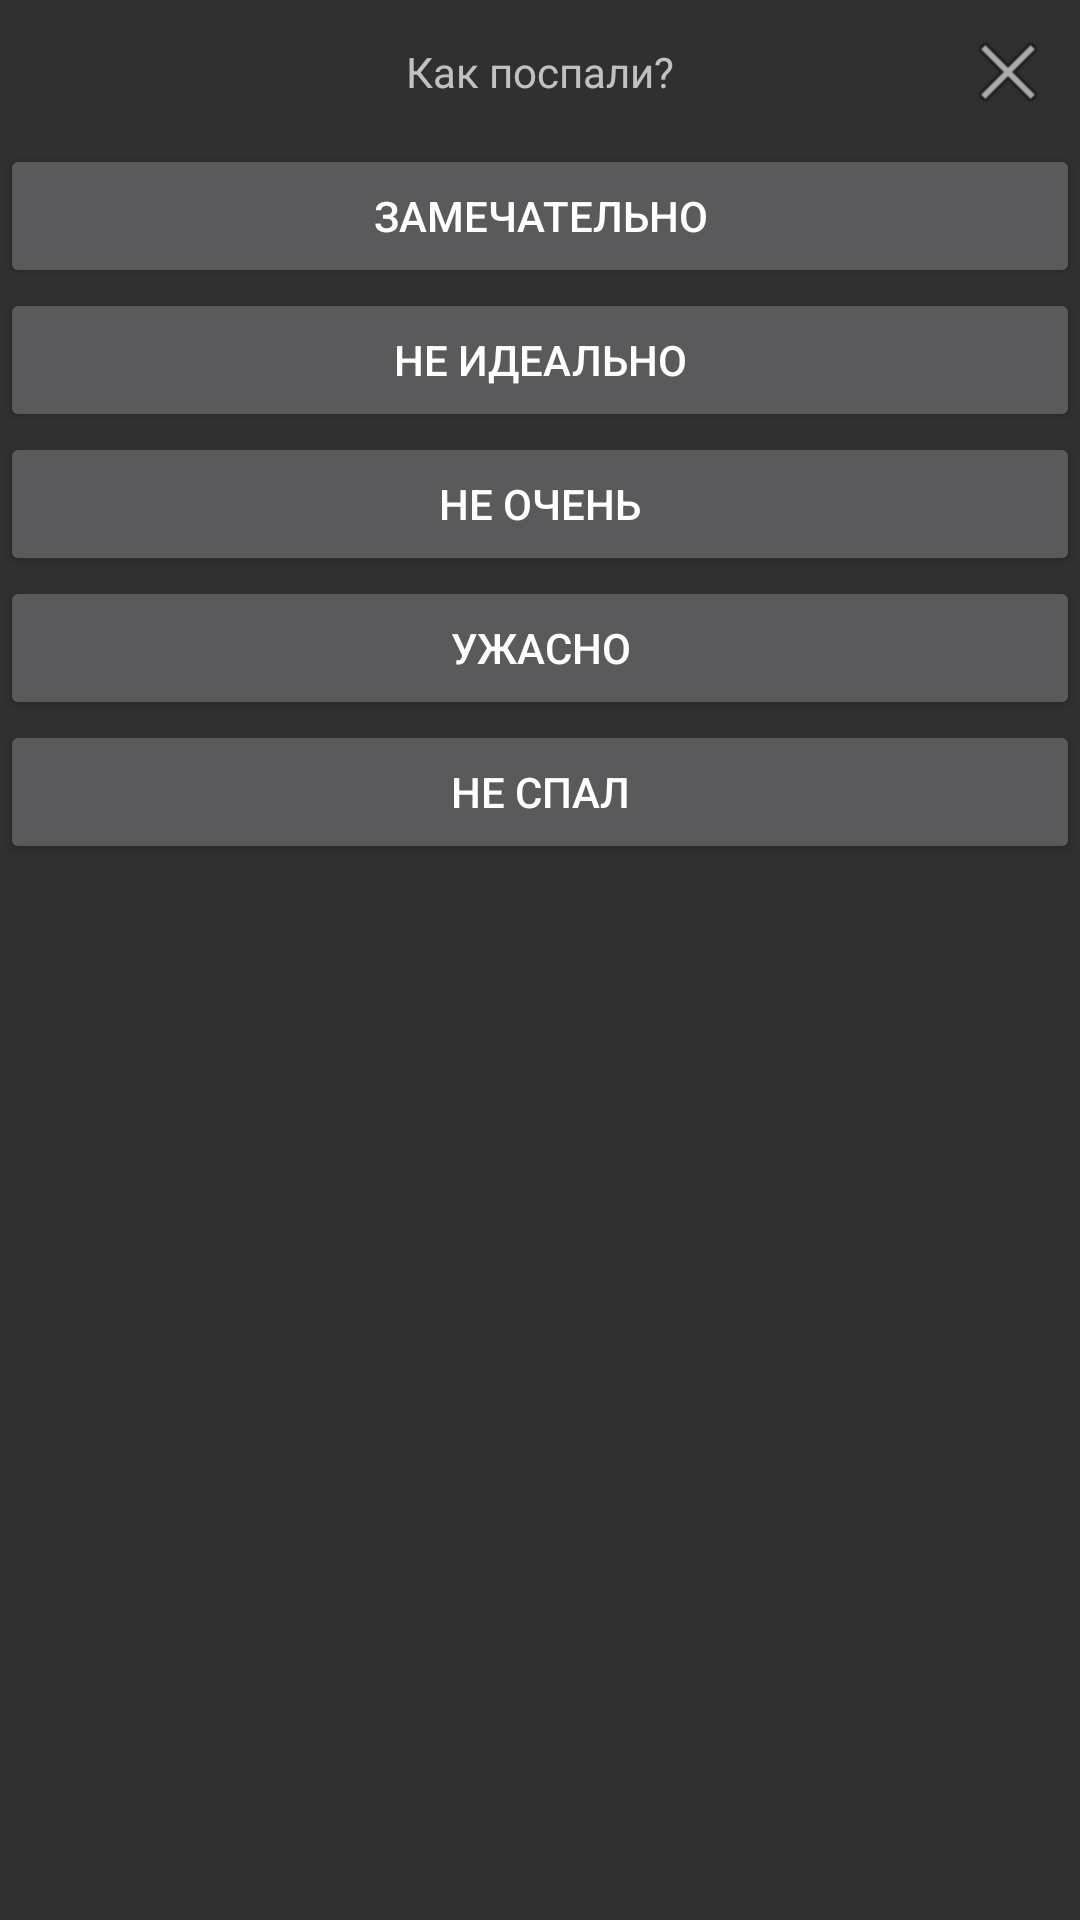

Named icons in this screenshot (1080*1920) and their centers, (x=x, y=y):
close clear cancel: (x=1008, y=72)
